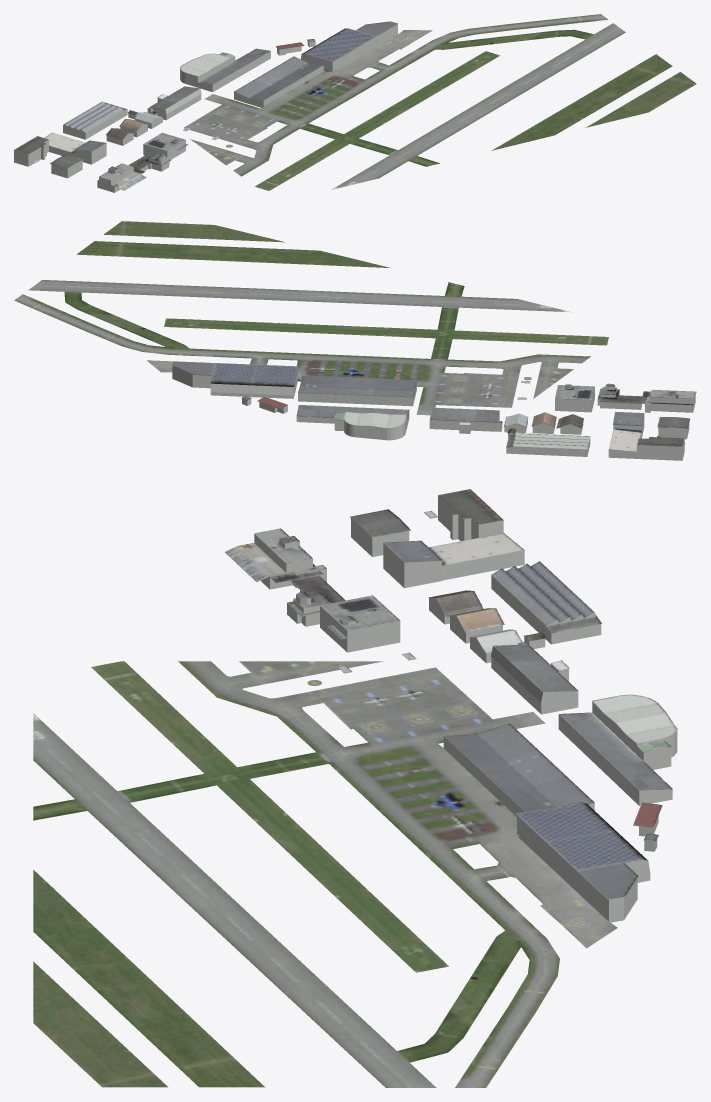
Rendered from LSZG_-1_0.glb.
3 views of the same model, one above another, from view 1: azimuth 30°, elevation 25°; view 2: azimuth 150°, elevation 25°; view 3: azimuth 270°, elevation 25° (orthographic). The views are drawn at different scales.
Visible parts, largest first — view 1: pavement_LSZG_pavement_5196_2451, building_cd2ba32d703bfae4, building_21ea16597f00d6e9, building_57c19121172aefdd, building_d45d1934ee3d50ee, building_4c4a42d11cbf41ab, building_b253f1ecb71728ad, building_5357baca6483c80f, building_3f914d6102e8048c, building_ee24fef19c3b1510, building_df7362fa33a18964, building_45f9a00def0c6dcf; view 2: pavement_LSZG_pavement_5196_2451, building_cd2ba32d703bfae4, building_21ea16597f00d6e9, building_d45d1934ee3d50ee, building_b253f1ecb71728ad, building_57c19121172aefdd, building_4c4a42d11cbf41ab, building_5357baca6483c80f, building_3f914d6102e8048c, building_45f9a00def0c6dcf, building_ee24fef19c3b1510, building_964609981932136a (+1 smaller); view 3: pavement_LSZG_pavement_5196_2451, building_cd2ba32d703bfae4, building_21ea16597f00d6e9, building_d45d1934ee3d50ee, building_4c4a42d11cbf41ab, building_57c19121172aefdd, building_5357baca6483c80f, building_b253f1ecb71728ad, building_3f914d6102e8048c, building_ee24fef19c3b1510, building_df7362fa33a18964, building_964609981932136a (+1 smaller).
Part boxes in pixels (x1,y1,x2,y2): pavement_LSZG_pavement_5196_2451: (184, 14, 696, 190); building_cd2ba32d703bfae4: (198, 28, 376, 100); building_21ea16597f00d6e9: (63, 53, 229, 132); building_57c19121172aefdd: (198, 37, 376, 107); building_d45d1934ee3d50ee: (14, 132, 171, 169); building_4c4a42d11cbf41ab: (14, 140, 169, 178); building_b253f1ecb71728ad: (63, 58, 230, 139); building_5357baca6483c80f: (106, 112, 219, 151); building_3f914d6102e8048c: (106, 117, 185, 159); building_ee24fef19c3b1510: (97, 163, 146, 190); building_df7362fa33a18964: (356, 21, 397, 36); building_45f9a00def0c6dcf: (97, 167, 133, 192); pavement_LSZG_pavement_5196_2451: (14, 221, 608, 415); building_cd2ba32d703bfae4: (210, 363, 416, 420); building_21ea16597f00d6e9: (344, 407, 590, 449); building_d45d1934ee3d50ee: (597, 383, 690, 452); building_b253f1ecb71728ad: (344, 411, 590, 456); building_57c19121172aefdd: (210, 369, 416, 431); building_4c4a42d11cbf41ab: (597, 386, 689, 460); building_5357baca6483c80f: (504, 380, 594, 428); building_3f914d6102e8048c: (504, 386, 594, 434); building_45f9a00def0c6dcf: (645, 393, 695, 412); building_ee24fef19c3b1510: (640, 389, 696, 405); building_964609981932136a: (172, 366, 211, 388); pavement_LSZG_pavement_5196_2451: (33, 661, 617, 1087); building_cd2ba32d703bfae4: (443, 712, 672, 874); building_21ea16597f00d6e9: (491, 561, 677, 743); building_d45d1934ee3d50ee: (287, 489, 524, 616); building_4c4a42d11cbf41ab: (287, 496, 524, 626); building_57c19121172aefdd: (443, 715, 672, 892); building_5357baca6483c80f: (320, 590, 522, 673); building_b253f1ecb71728ad: (491, 575, 677, 757); building_3f914d6102e8048c: (320, 598, 502, 663); building_ee24fef19c3b1510: (225, 528, 326, 583); building_df7362fa33a18964: (577, 862, 638, 899); building_964609981932136a: (578, 873, 637, 922).
Size of the model in its own units: 677 by 15.53 by 319.
3 materials, 2 textured.
